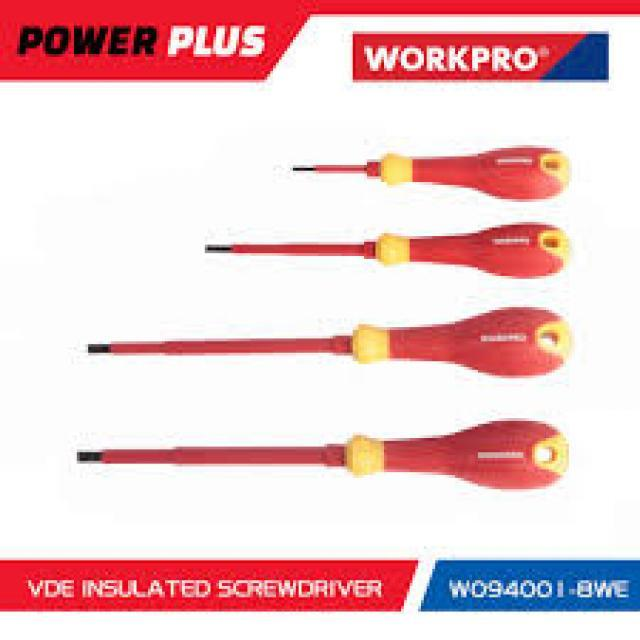screwdriver: (71, 412, 578, 503), (80, 298, 574, 389), (195, 216, 576, 282), (284, 132, 574, 206)
